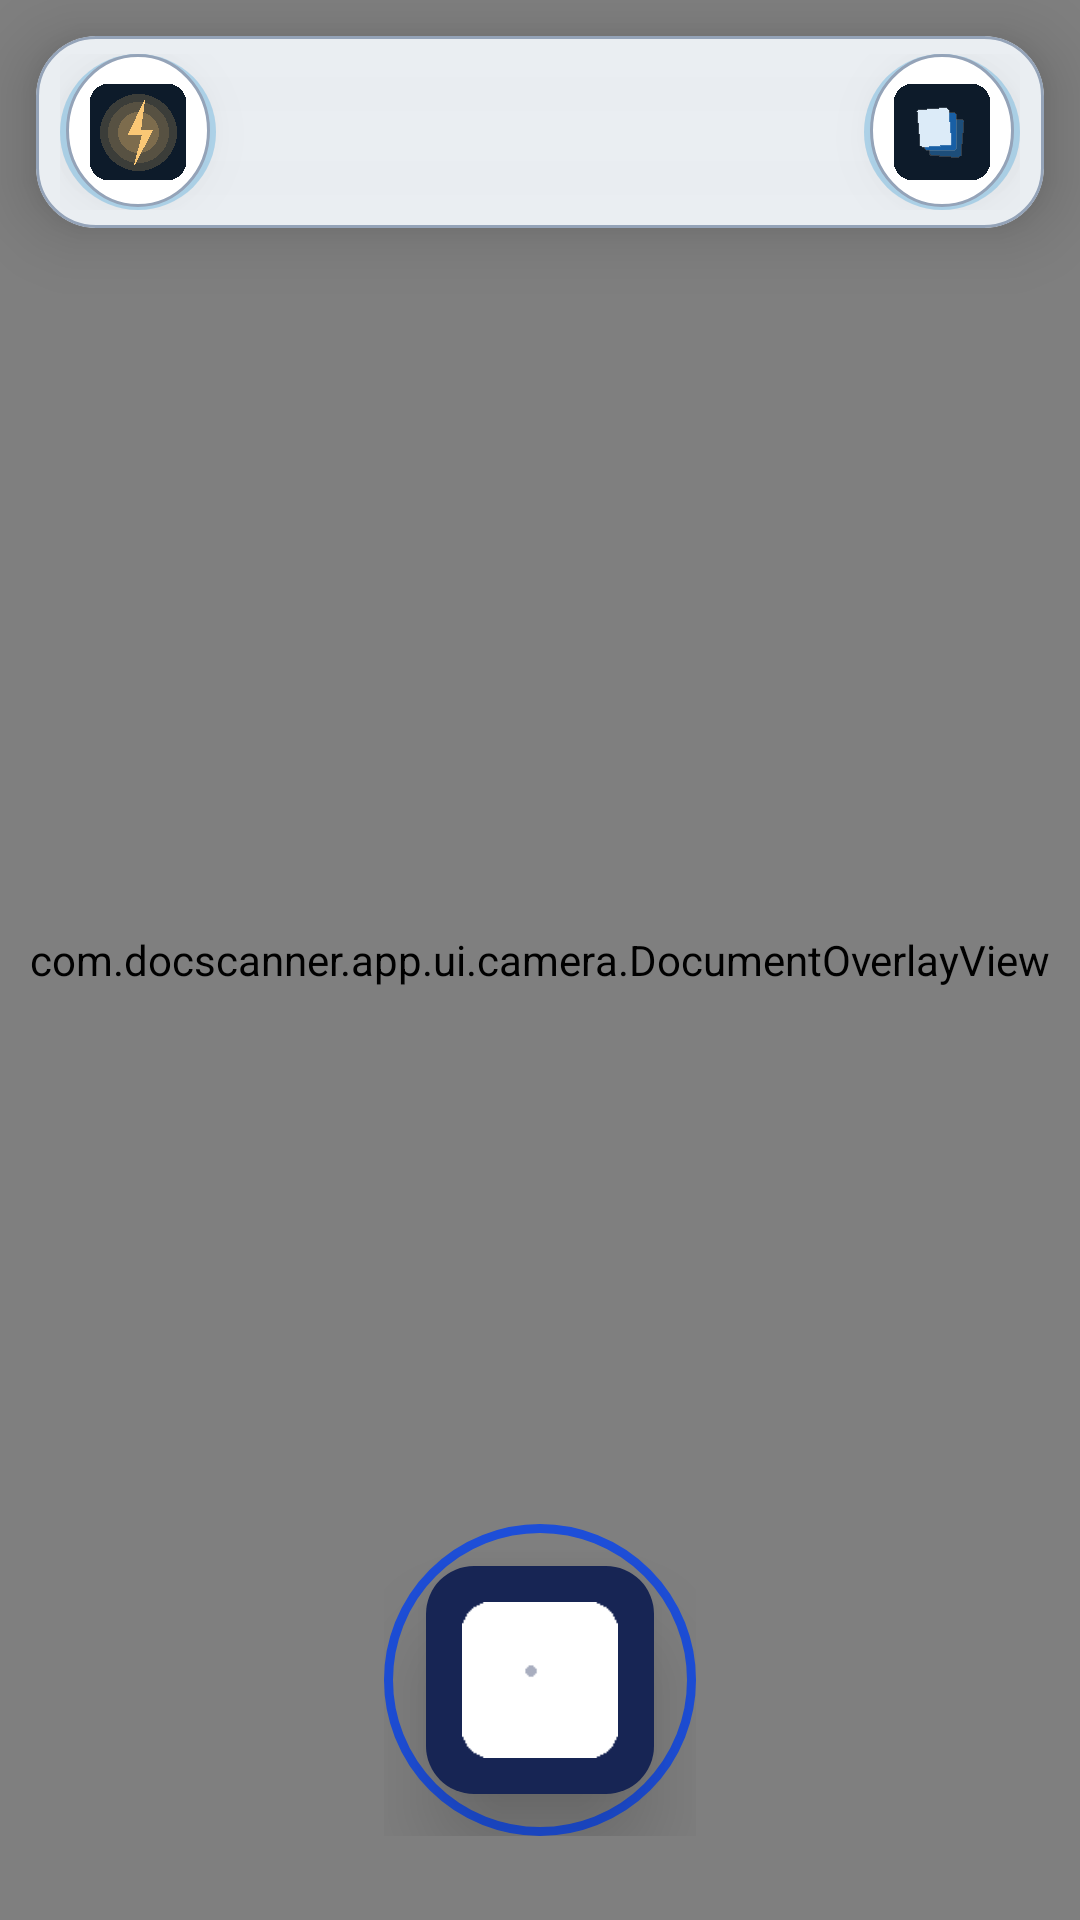

Locate icon controls on the screen. Image size 1080px×1920px, boxes as (x1,y1,x2,y2).
Capture: (426,1566,654,1794)
Flash: (60,54,216,210)
Gallery: (864,54,1020,210)
